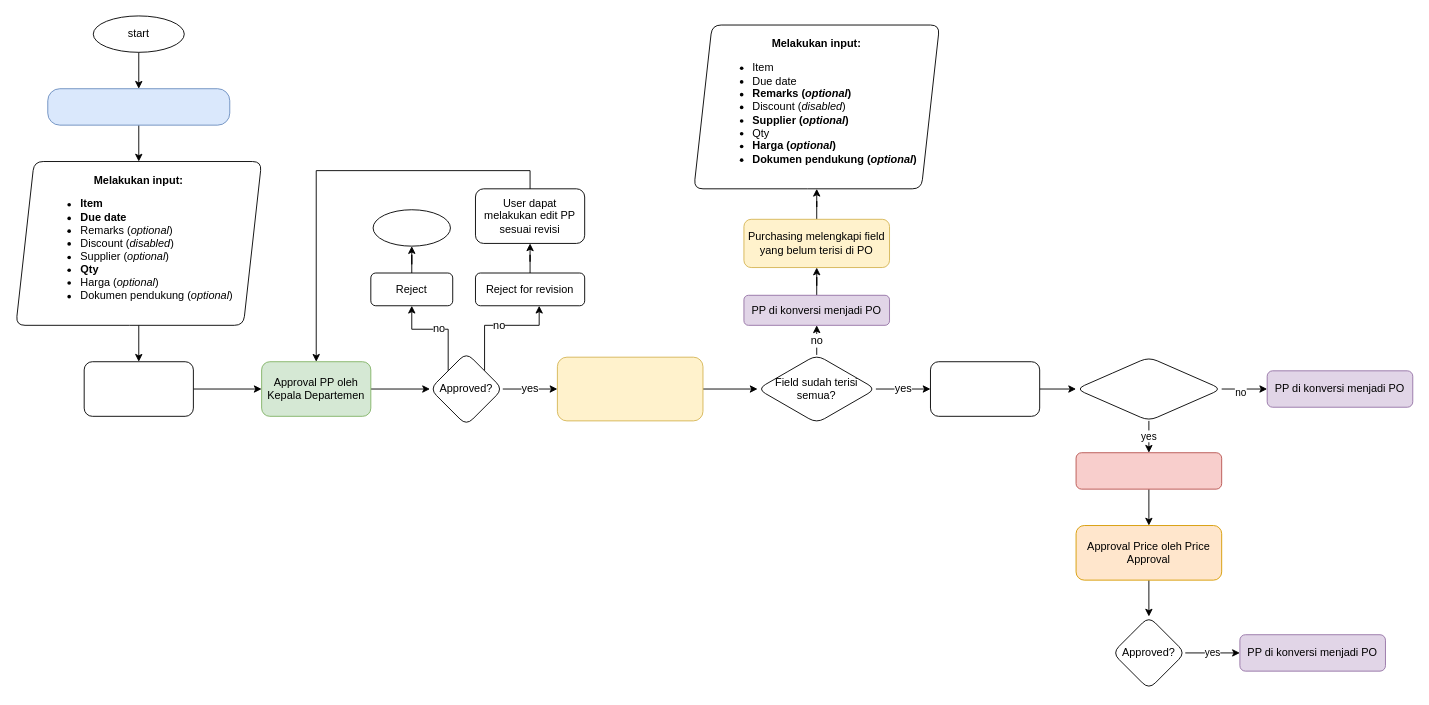
Image size: 1429x705. Some labels were removed from this diagram. The centre of each missing label's shape, as x and y in pixels:
end: (x=411, y=227)
PP akan dilakukan pengecekan total harga: (x=985, y=388)
PP berhasil dibuat oleh User: (x=138, y=388)
PP di konversi menjadi PA: (x=1148, y=470)
Purchasing melakukan pengecekan PP: (x=629, y=388)
Total price >= 20 juta?: (x=1148, y=388)
User create PP ( Per Departemen ): (x=138, y=106)
